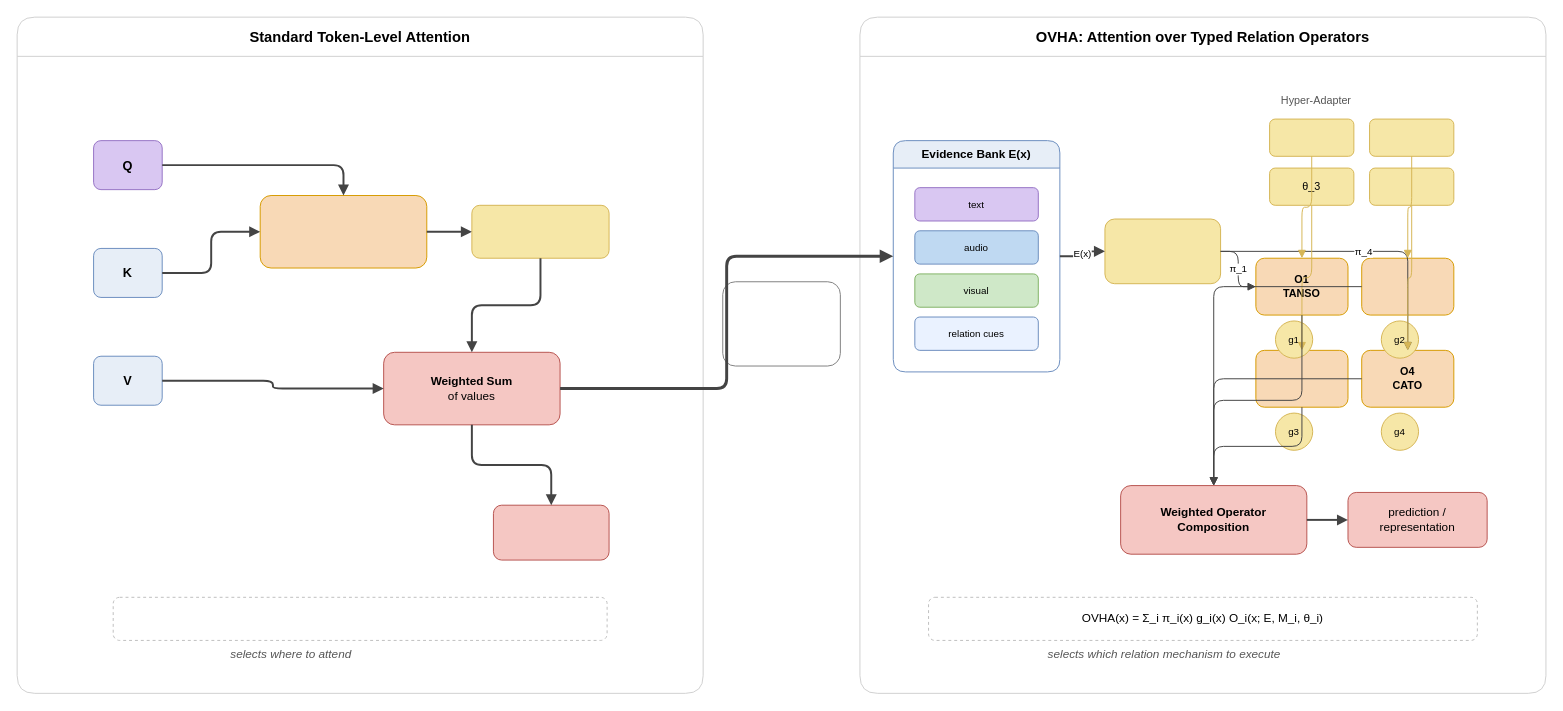
The diagram is 1563 pixels wide and 711 high, and some of its shapes have lost their labels. Each missing label, with the centre of its shape:
"attention weights" belongs at pixel 540 231.
"Attn(Q,K,V) = softmax(QK^T / sqrt(d)) V" belongs at pixel 359 618.
"contextual token" belongs at pixel 550 532.
"generalizes token weighting → relation-operator routing" belongs at pixel 781 323.
"O2 PRSO" belongs at pixel 1407 286.
"O3 SRO" belongs at pixel 1301 378.
"Router π(x)" belongs at pixel 1162 251.
"Similarity + Softmax" belongs at pixel 343 231.
"θ_1" belongs at pixel 1311 137.
"θ_2" belongs at pixel 1411 137.
"θ_4" belongs at pixel 1411 186.
